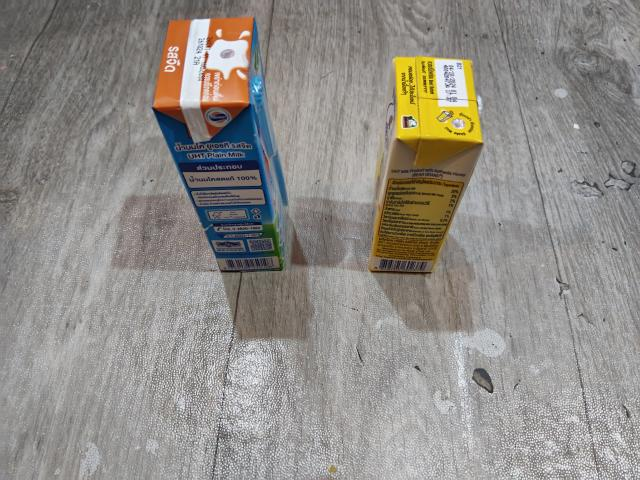drink_box: (143, 10, 295, 281), (357, 55, 490, 282)
